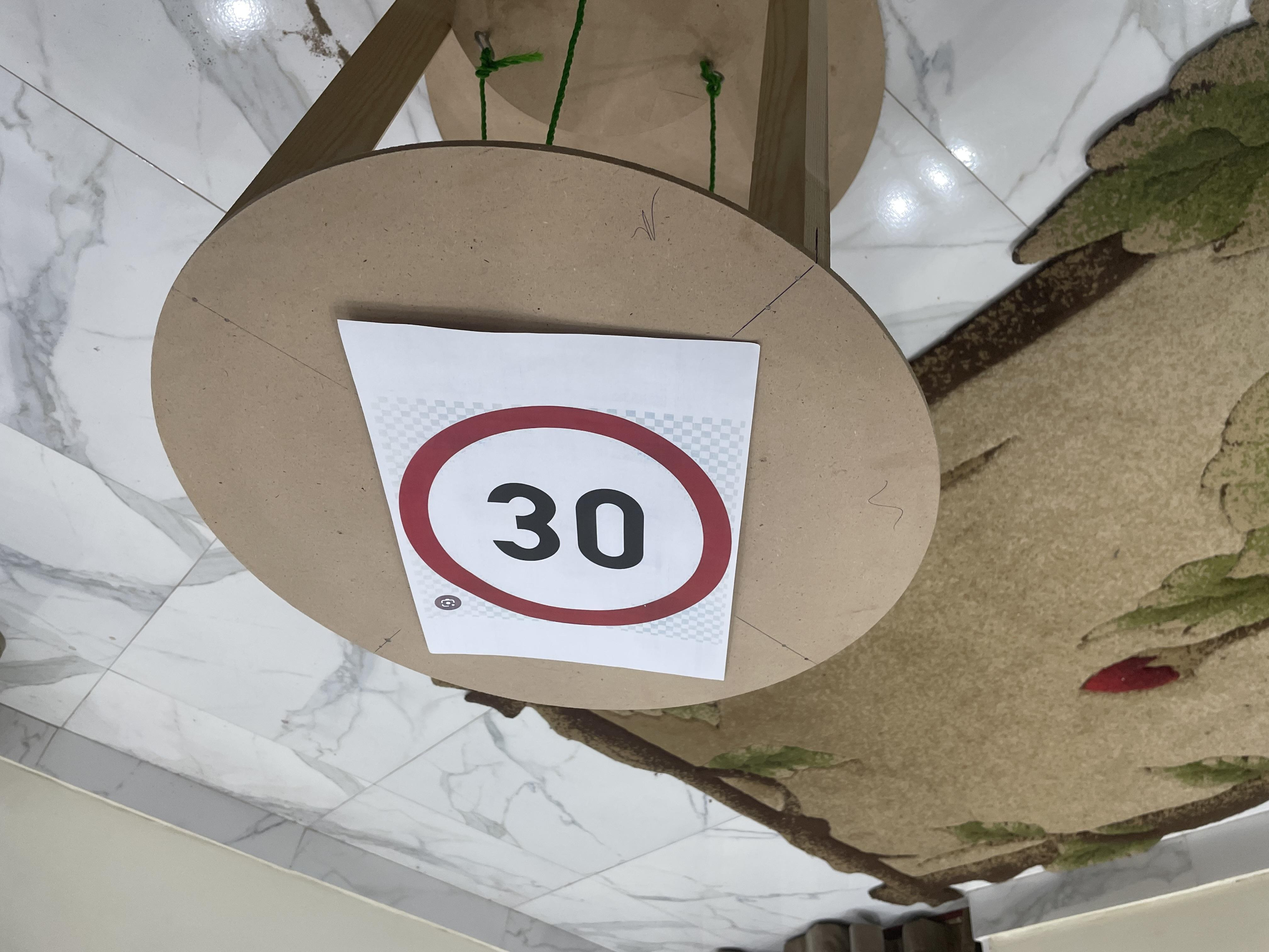30-speed: (535, 325, 877, 550)
